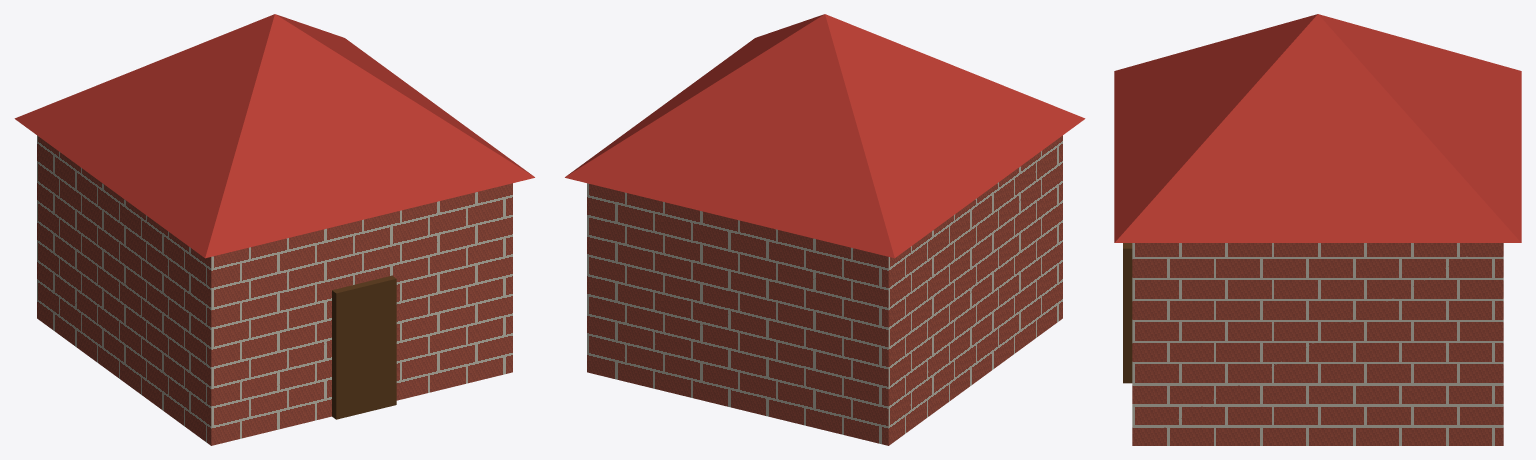
The model's file is house.obj.
3 views of the same model, side by side, from view 1: azimuth 30°, elevation 25°; view 2: azimuth 150°, elevation 25°; view 3: azimuth 270°, elevation 25° (orthographic). The views are drawn at different scales.
Parts seen in each view (by area): view 1: walls, nocol_roof, door; view 2: walls, nocol_roof; view 3: nocol_roof, walls, door.
Part boxes in pixels (bbox=[...]): walls: bbox=[37, 135, 512, 445]; nocol_roof: bbox=[14, 14, 534, 258]; door: bbox=[332, 275, 396, 419]; walls: bbox=[587, 135, 1062, 445]; nocol_roof: bbox=[565, 14, 1085, 258]; nocol_roof: bbox=[1114, 14, 1521, 242]; walls: bbox=[1132, 243, 1503, 445]; door: bbox=[1123, 243, 1132, 383].
Bounding box in the file's own units: 4.38 × 4.2 × 4.38.
3 materials, 1 textured.
